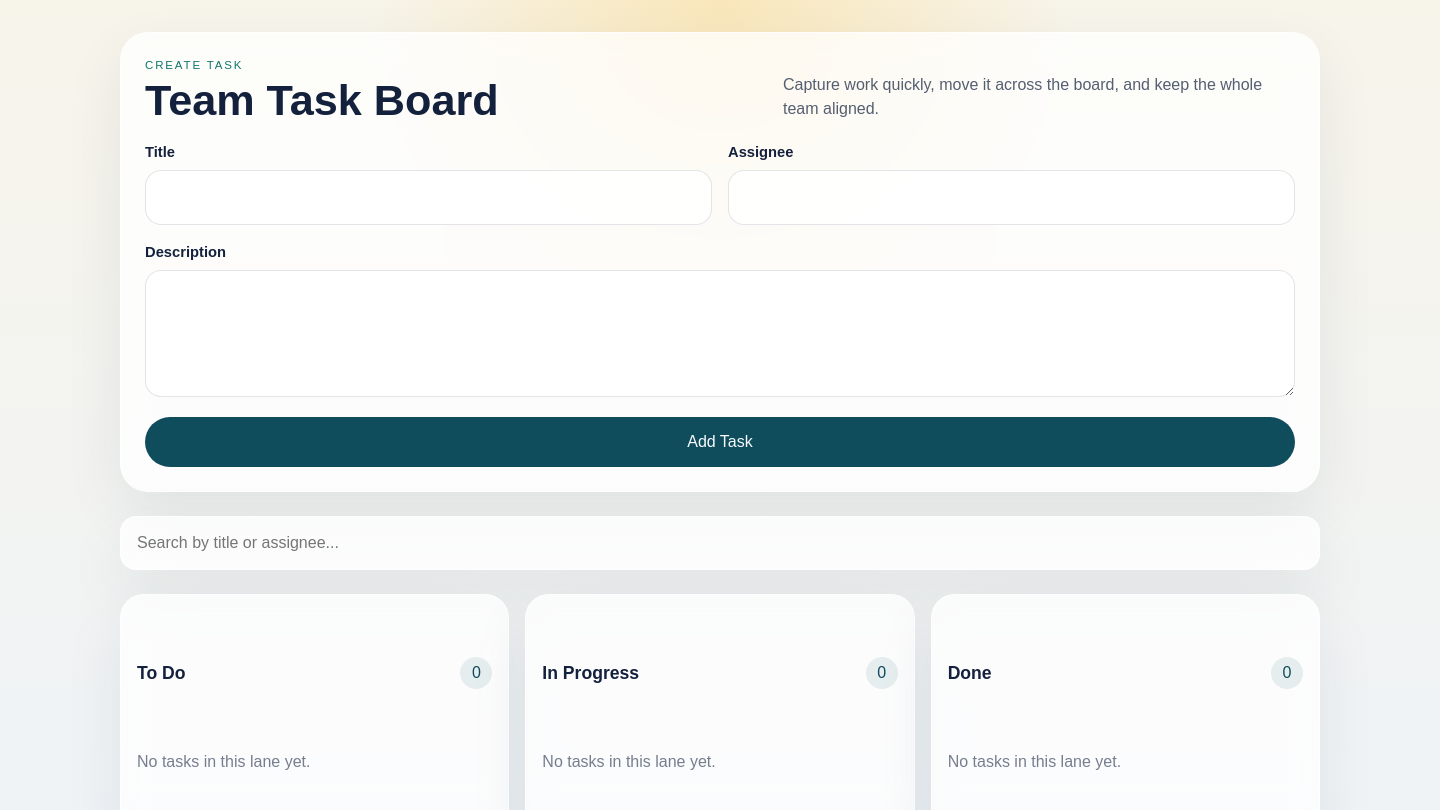
Test case: App › clears a previous error after the next successful action
The width and height of the screenshot is (1440, 810).
Click the button "Add Task".
click(720, 442)  # box [145, 417, 1295, 467]
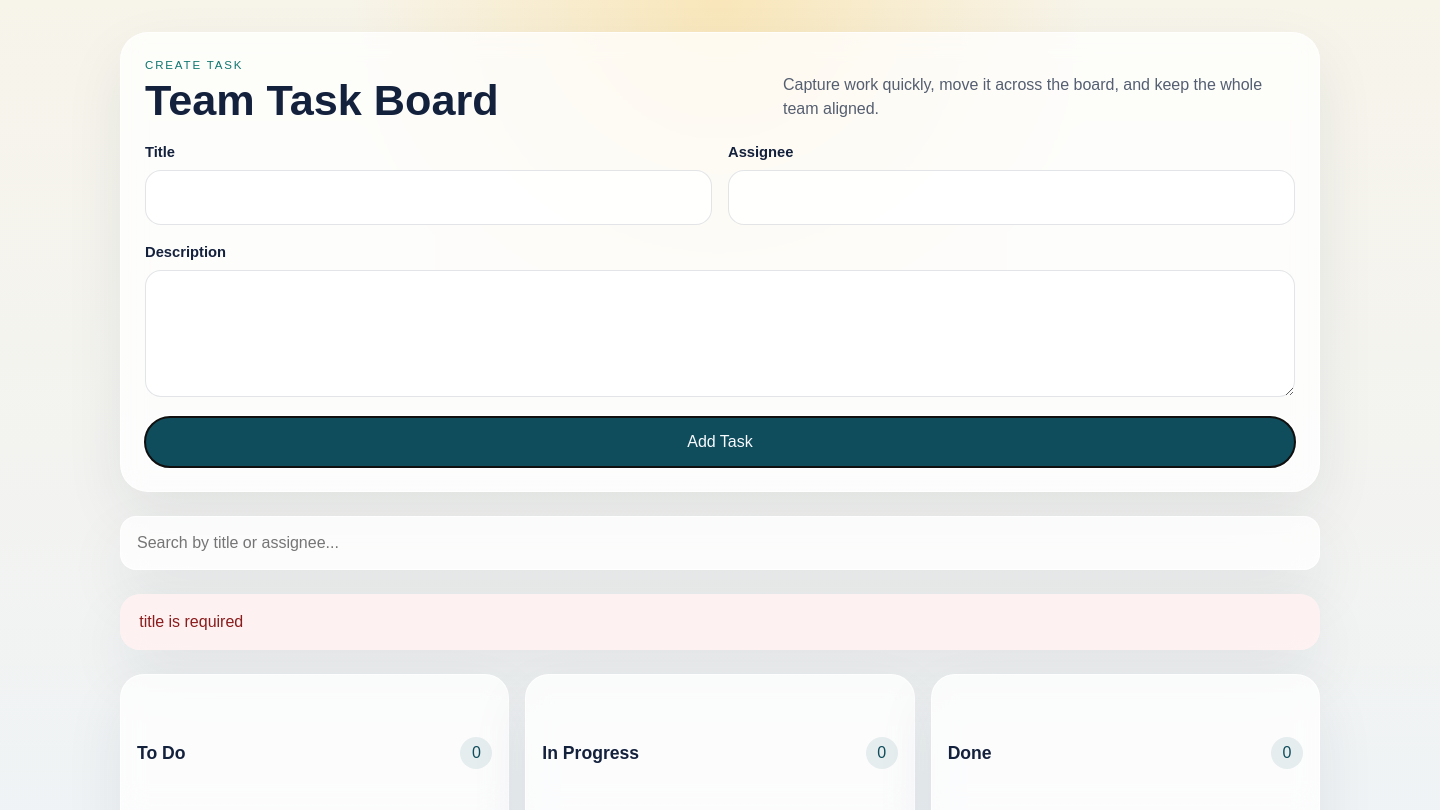
Expected: the message reads "title is required", [139, 613, 243, 630]
Type "Draft release notes" into the field labelled "Title".
click(428, 198); type("Draft release notes")  # box [145, 170, 712, 225]
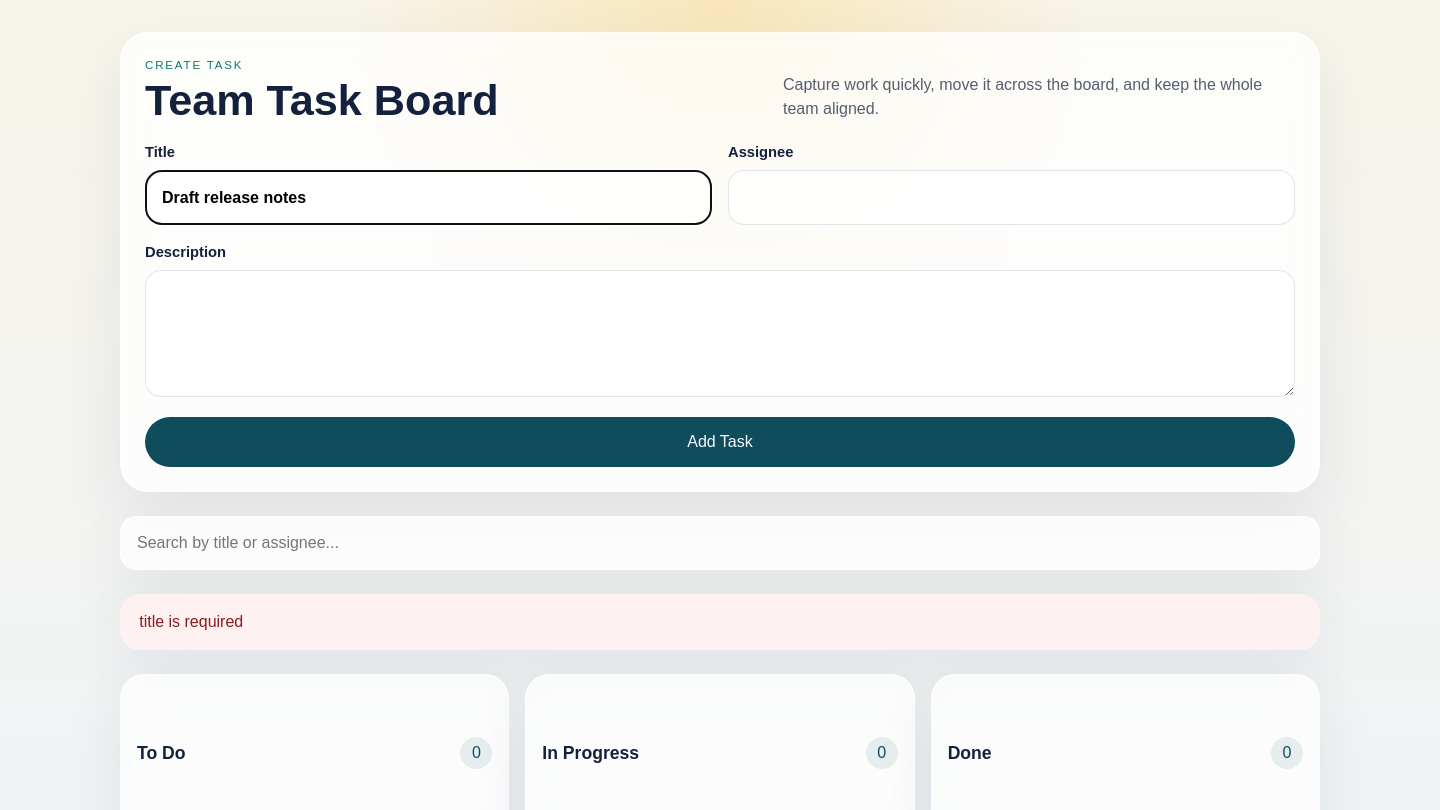
Type "Prepare the notes for the sprint release." into the text box labelled "Description".
click(720, 334); type("Prepare the notes for the sprint release.")  # box [145, 270, 1295, 397]
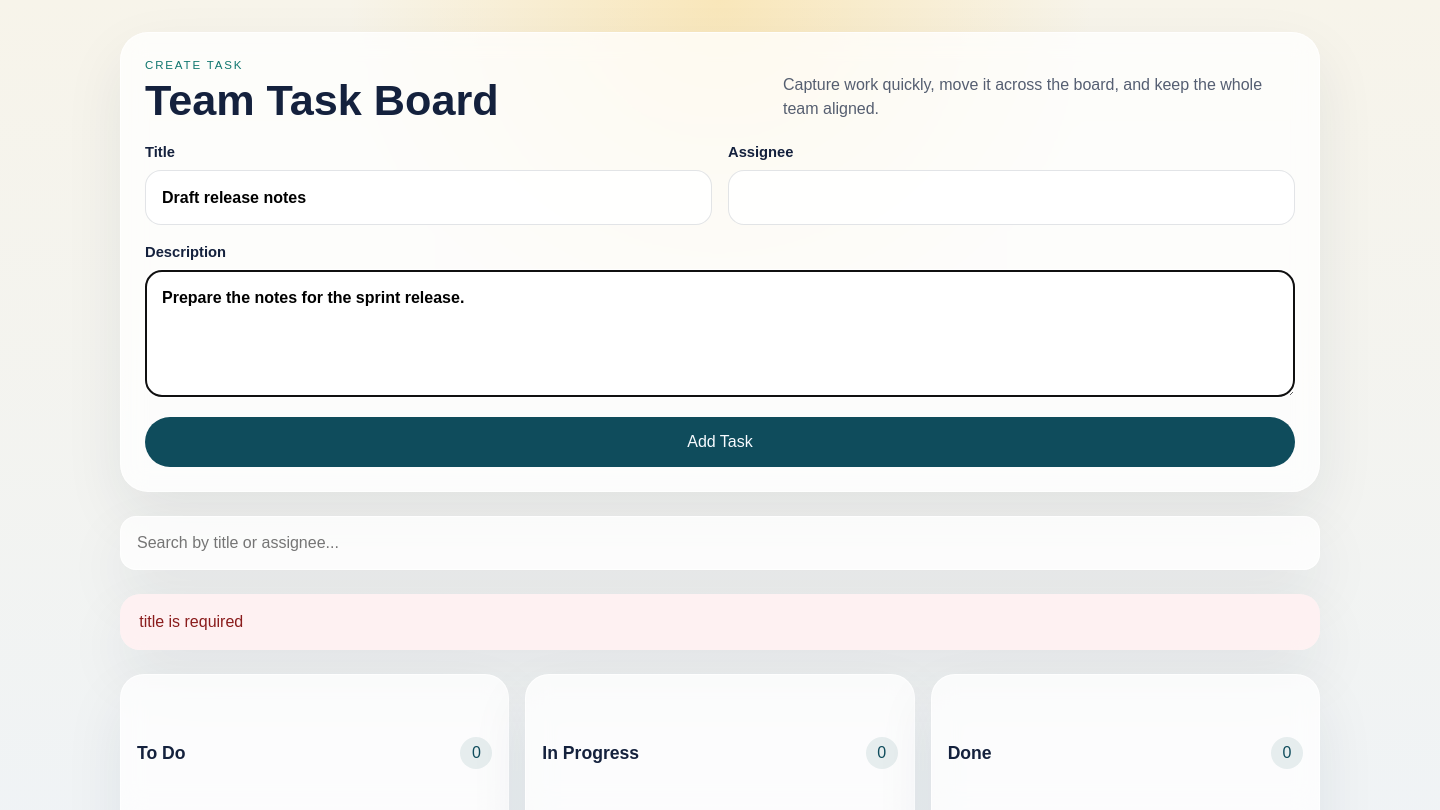
Type "Ava" into the field labelled "Assignee".
click(1012, 198); type("Ava")  # box [728, 170, 1295, 225]
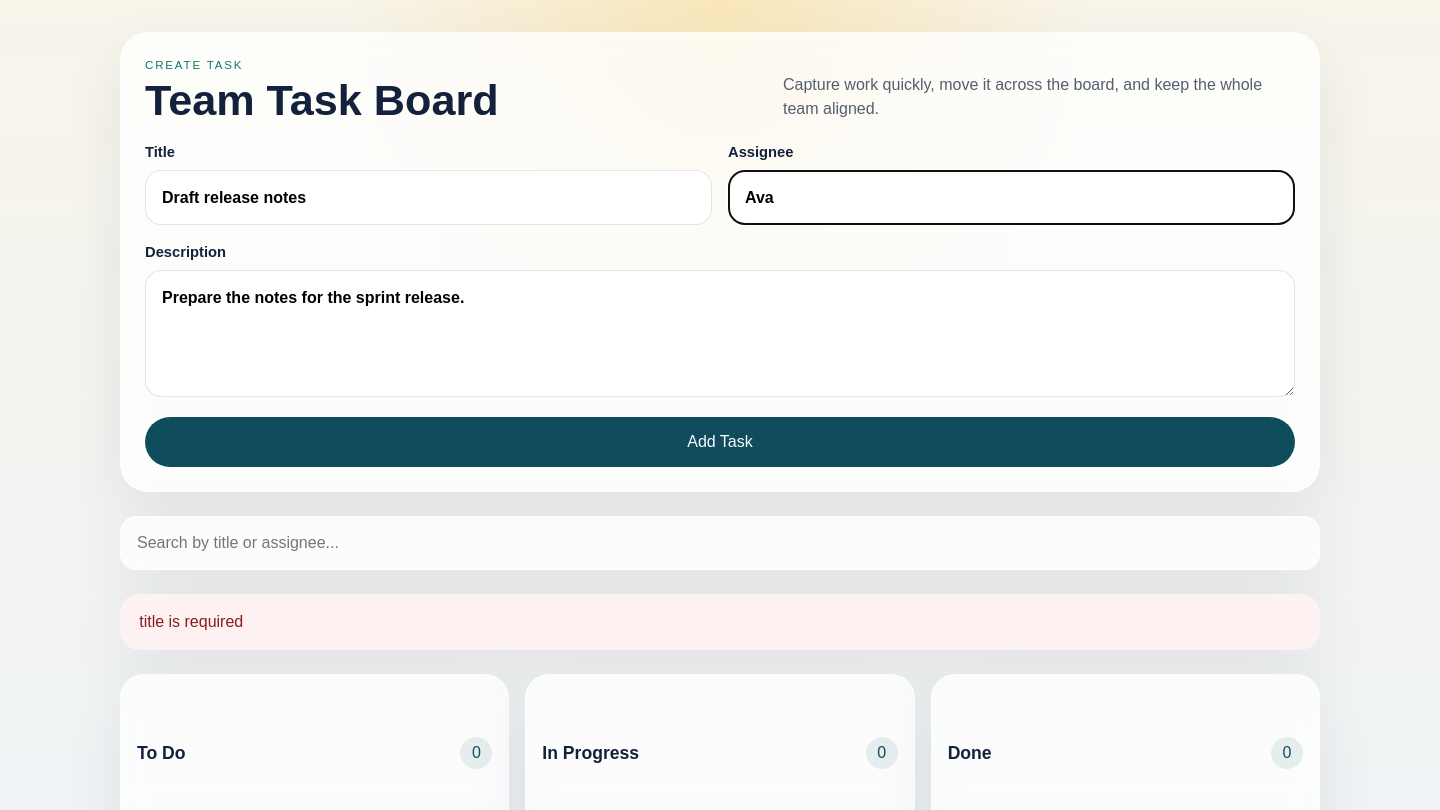
Click the button "Add Task".
click(720, 442)  # box [145, 417, 1295, 467]
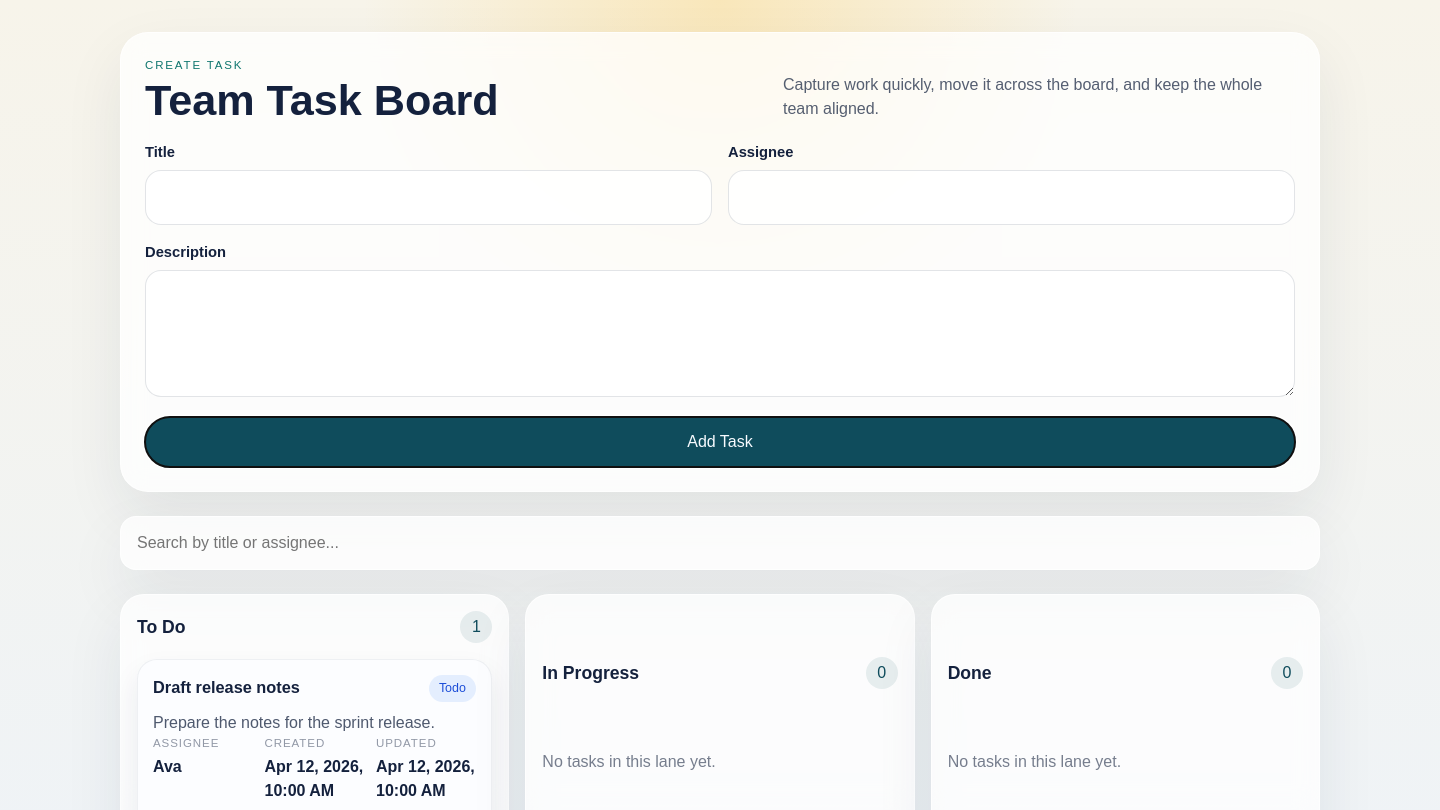
Expected: the message "title is required" is gone
